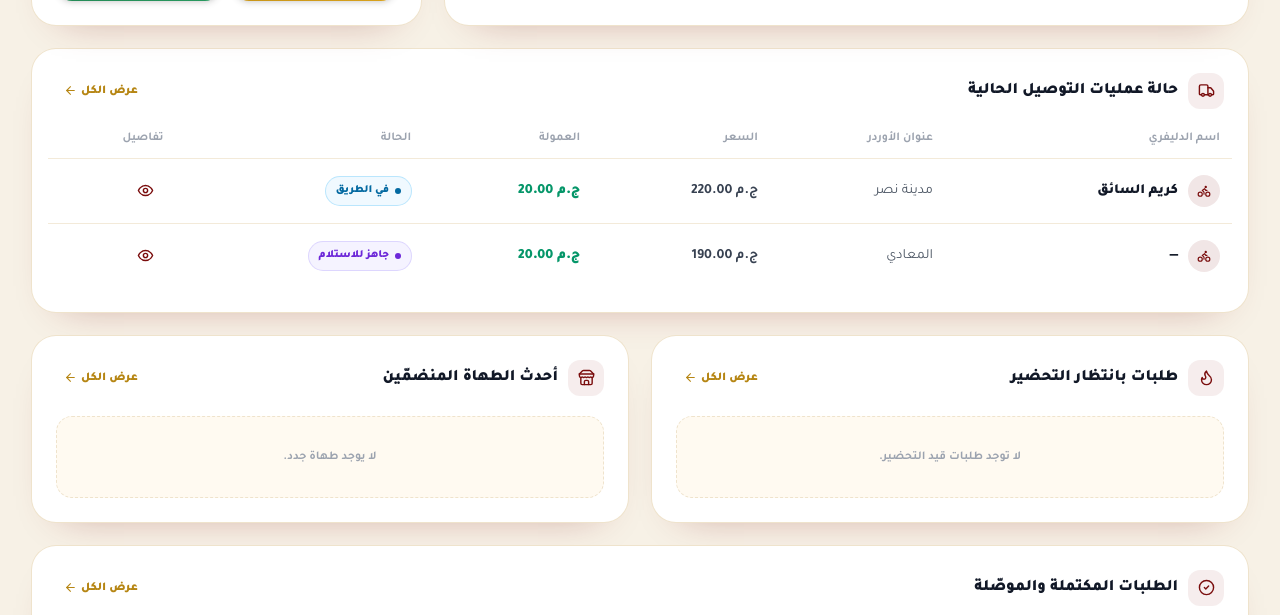
Test: dashboard live-deliveries table — order id / key regression (2026-09-12) › keeps each row on its own order and status when the backend sends `id` for every row
(page scrolled)
Expected: the heading "حالة عمليات التوصيل الحالية" is shown, [968,72,1224,108]
Expected: the text "كريم السائق" is shown, [1097,180,1178,200]
Click the button named "تفاصيل" in the row of "المعادي": (146, 256) [128,238,164,274]
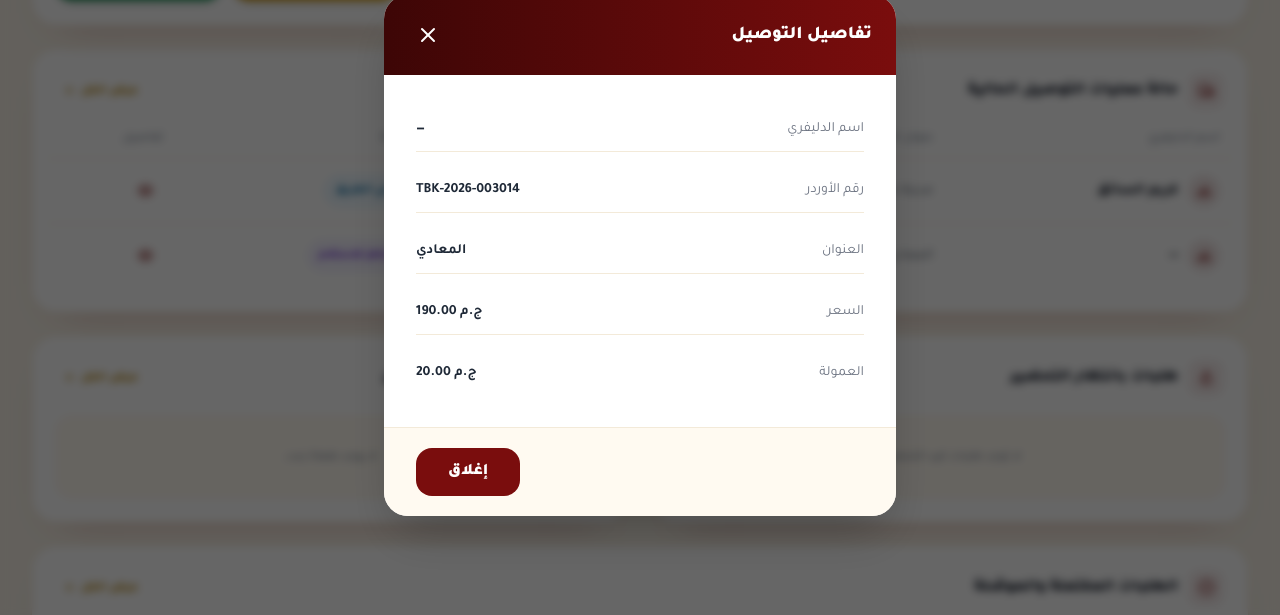
Expected: the number of buttons named "تفاصيل" is 2, [128,172,164,208]; [128,238,164,274]
Now the text "TBK-2026-003014" is shown, box [416,180,520,200]
